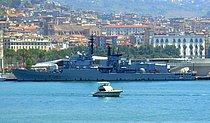MIL_Ship: (10, 33, 197, 82)
